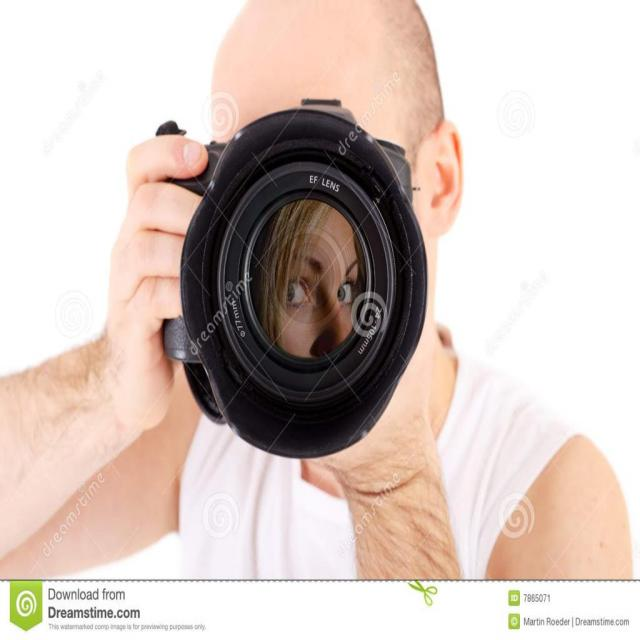nomask: (275, 187, 367, 450)
